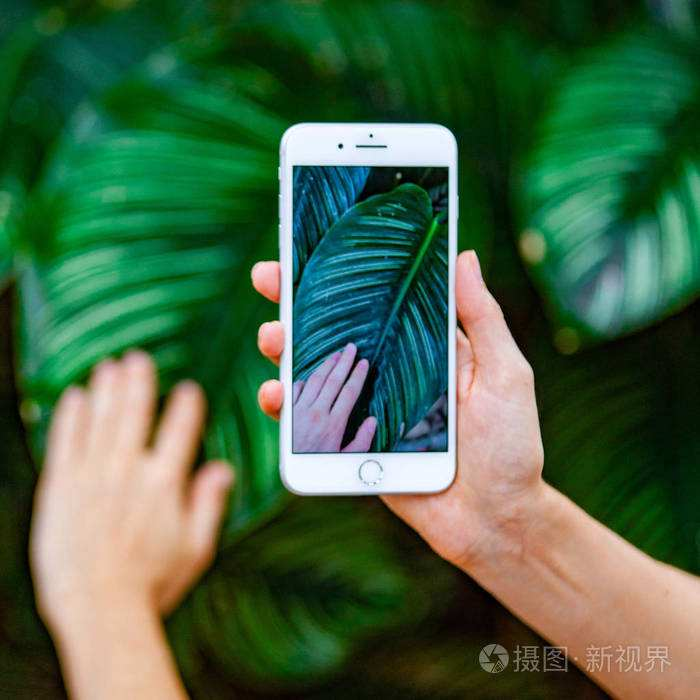taking photos: (242, 113, 565, 601)
